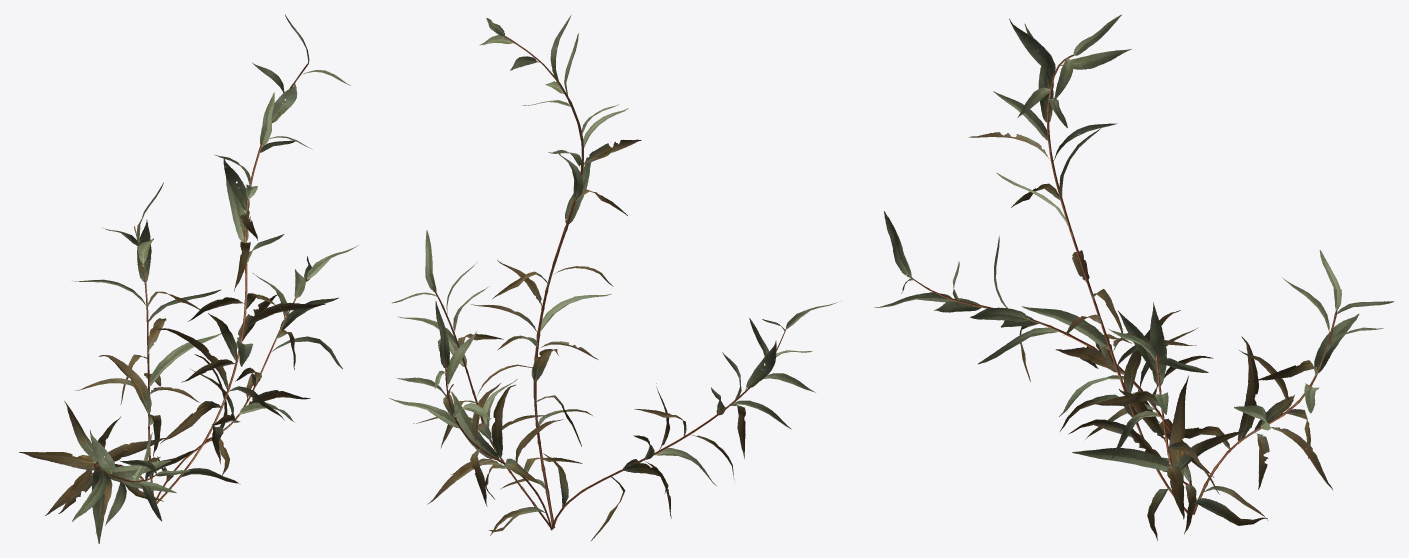
The picture shows the model from 3 angles, left to right: view 1: azimuth 30°, elevation 25°; view 2: azimuth 150°, elevation 25°; view 3: azimuth 270°, elevation 25°; orthographic projection. The views are drawn at different scales.
Visible parts, largest first — view 1: shrub_02__b_lod0; view 2: shrub_02__b_lod0; view 3: shrub_02__b_lod0.
Boxes of the visible parts, <box> form: shrub_02__b_lod0: <box>19,14,358,543</box>; shrub_02__b_lod0: <box>389,15,842,540</box>; shrub_02__b_lod0: <box>874,14,1394,540</box>.
Bounding box in the file's own units: 1.11 × 1.51 × 1.28.
1 material, 1 textured.
